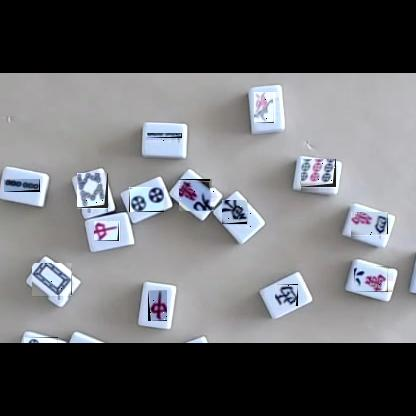1s: (255, 92, 279, 123)
1z: (223, 201, 252, 229)
2p: (129, 187, 164, 212)
2s: (4, 179, 40, 192), (147, 134, 182, 143)
3z: (275, 284, 298, 306)
4m: (351, 213, 388, 239)
5p: (24, 337, 58, 343)
5z: (32, 264, 72, 300)
6m: (355, 266, 393, 292)
7z: (148, 290, 167, 321), (95, 221, 124, 241)
8s: (77, 174, 108, 213)
9m: (180, 179, 215, 211)
9p: (301, 160, 336, 192)
